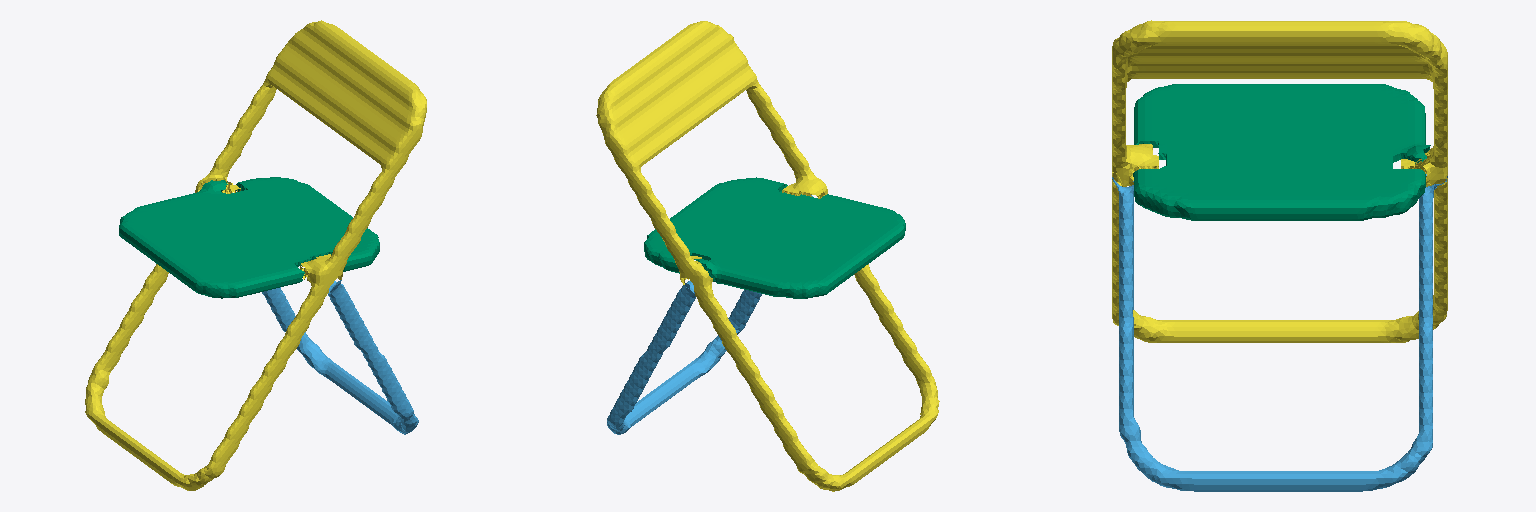
URDF robot description (object):
<?xml version='1.0' encoding='utf-8'?>
<robot name="object">
  <link name="base">
    <inertial>
      <origin xyz="0 0 0" rpy="0 0 0" />
      <mass value="0.0" />
      <inertia ixx="0" ixy="0" ixz="0" iyy="0" iyz="0" izz="0" />
    </inertial>
  </link>
  <link name="link_1">
    <visual>
      <origin xyz="0 0 0" rpy="0 0 0" />
      <geometry>
        <mesh filename="meshes/link_1.stl" />
      </geometry>
    </visual>
    <collision>
      <origin xyz="0 0 0" rpy="0 0 0" />
      <geometry>
        <mesh filename="meshes/link_1.stl" />
      </geometry>
    </collision>
    <inertial>
      <origin xyz="0.257624778 -0.00765919935 -0.521438323" rpy="0 0 0" />
      <mass value="5.8668443" />
      <inertia ixx="0.331942369" ixy="0.00071836755" ixz="-0.201640037" iyy="-0.352191018" iyz="-0.0464801242" izz="0.891001798" />
    </inertial>
  </link>
  <link name="link_2">
    <visual>
      <origin xyz="0.0273353932 0.386319676 -0.0224581557" rpy="0 0 0" />
      <geometry>
        <mesh filename="meshes/link_2.stl" />
      </geometry>
    </visual>
    <collision>
      <origin xyz="0.0273353932 0.386319676 -0.0224581557" rpy="0 0 0" />
      <geometry>
        <mesh filename="meshes/link_2.stl" />
      </geometry>
    </collision>
    <inertial>
      <origin xyz="-0.0893305938 0.325293356 0.0109378753" rpy="0 0 0" />
      <mass value="17.3900955" />
      <inertia ixx="0.619849496" ixy="0.0152632378" ixz="-0.00104442457" iyy="1.07848189" iyz="-0.00288119579" izz="1.69214689" />
    </inertial>
  </link>
  <link name="link_3">
    <visual>
      <origin xyz="0.0232802673 0.417991665 -0.0340448326" rpy="0 0 0" />
      <geometry>
        <mesh filename="meshes/link_3.stl" />
      </geometry>
    </visual>
    <collision>
      <origin xyz="0.0232802673 0.417991665 -0.0340448326" rpy="0 0 0" />
      <geometry>
        <mesh filename="meshes/link_3.stl" />
      </geometry>
    </collision>
    <inertial>
      <origin xyz="0.070308711 0.425867804 0.108858503" rpy="0 0 0" />
      <mass value="19.9545671" />
      <inertia ixx="8.06516298" ixy="0.0165810562" ixz="-3.568355" iyy="7.58520608" iyz="0.0492585856" izz="5.55563966" />
    </inertial>
  </link>
  <joint name="joint_1_3" type="revolute">
    <parent link="link_1" />
    <child link="link_3" />
    <origin xyz="-0.0232802673 -0.417991665 0.0340448326" rpy="0 0 0" />
    <axis xyz="0.01196337 0.999928374 0.000352147113" />
    <limit lower="-1.57" upper="1.57" effort="10.0" velocity="1.0" />
  </joint>
  <joint name="joint_3_2" type="revolute">
    <parent link="link_3" />
    <child link="link_2" />
    <origin xyz="-0.00405512588 0.0316719887 -0.011586677" rpy="0 0 0" />
    <axis xyz="0.00439749921 0.999983803 0.00361314882" />
    <limit lower="-1.57" upper="1.57" effort="10.0" velocity="1.0" />
  </joint>
  <joint name="base_to_1" type="fixed">
    <parent link="base" />
    <child link="link_1" />
    <origin xyz="0 0 0" rpy="0 0 0" />
  </joint>
</robot>

--- Facts derived from the render (not from the file) ---
Views: 3 orthographic renders of the robot side by side, from view 1: azimuth 30°, elevation 25°; view 2: azimuth 150°, elevation 25°; view 3: azimuth 270°, elevation 25°.
Model object with 4 links and 3 joints (2 revolute, 1 fixed), rooted at base, posed all joints at 0.
Links seen in each view (by area): view 1: link_3, link_2, link_1; view 2: link_3, link_2, link_1; view 3: link_2, link_3, link_1.
Link boxes in pixels (x1=…): link_3: x1=85, y1=20, x2=426, y2=490; link_2: x1=119, y1=177, x2=379, y2=298; link_1: x1=262, y1=280, x2=418, y2=434; link_3: x1=596, y1=21, x2=939, y2=491; link_2: x1=644, y1=177, x2=905, y2=298; link_1: x1=607, y1=195, x2=812, y2=434; link_2: x1=1133, y1=84, x2=1430, y2=220; link_3: x1=1112, y1=20, x2=1447, y2=342; link_1: x1=1112, y1=174, x2=1447, y2=491.
Size in the robot's own frame: 1.07 by 0.9459 by 1.46 metres.
Meshes: 3 distinct files referenced, 3 mesh visuals loaded (3 binary STL).
